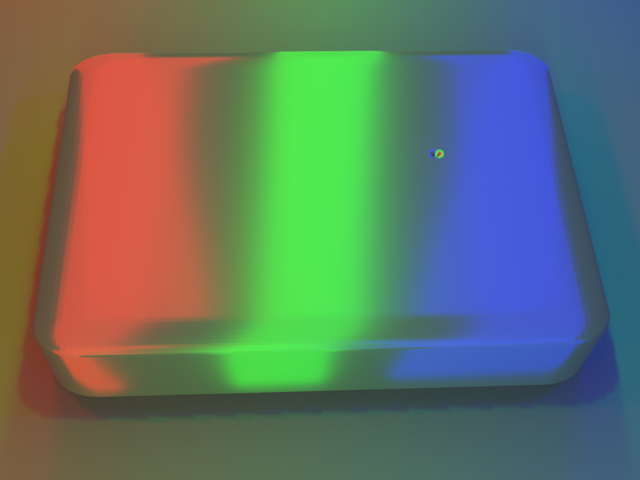dent: (429, 129, 466, 168)
